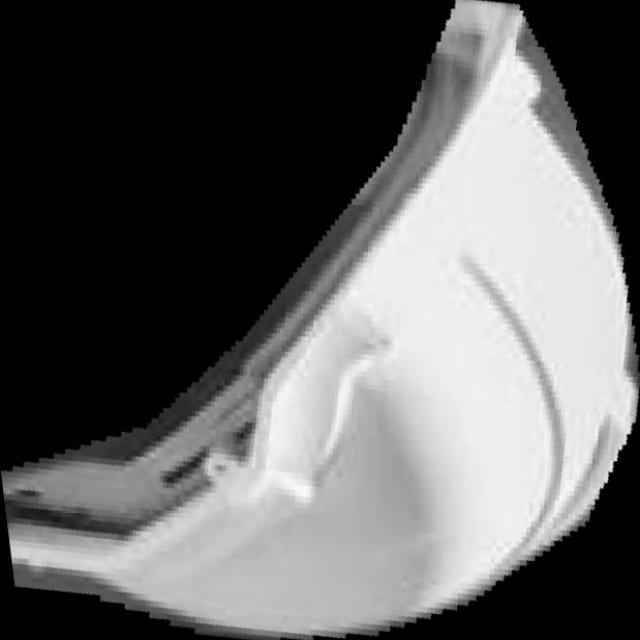construction helmet: (1, 0, 640, 639)
